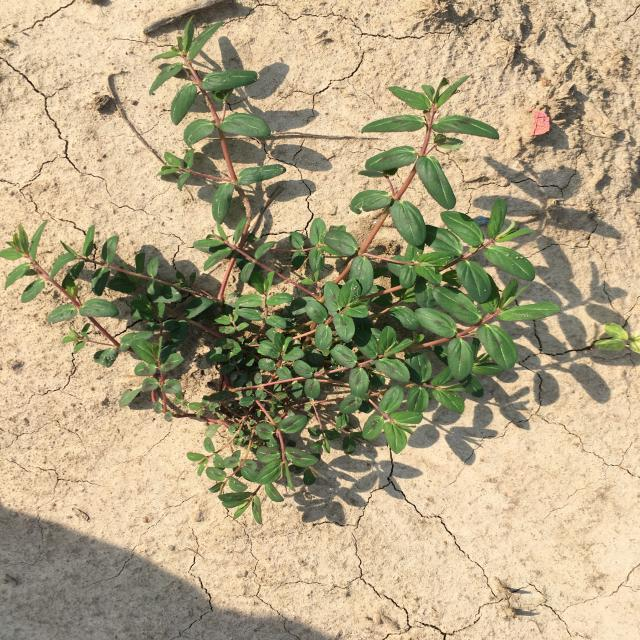MorningGlory: (594, 322, 640, 354)
SpottedSpurge: (1, 16, 561, 524)
